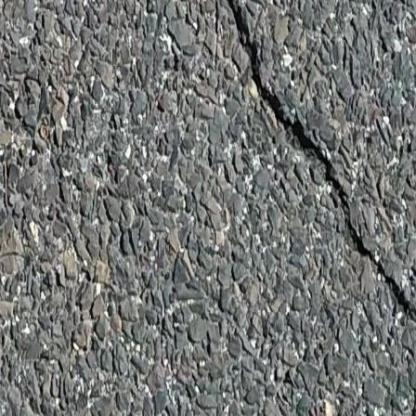Cracks: (181, 0, 416, 296), (298, 192, 416, 348)
